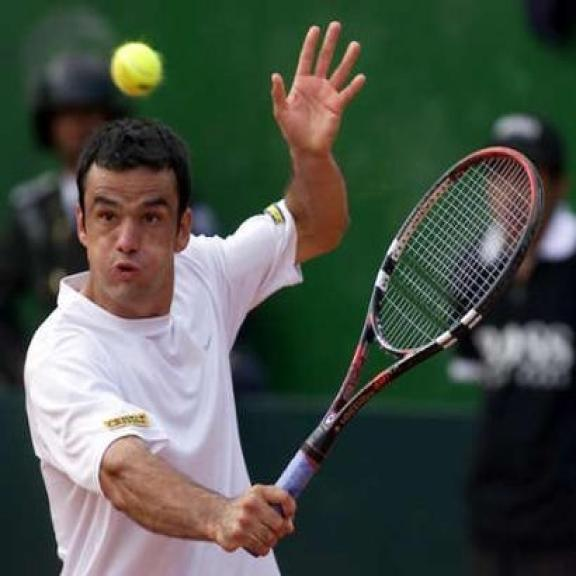face: (76, 166, 193, 306)
